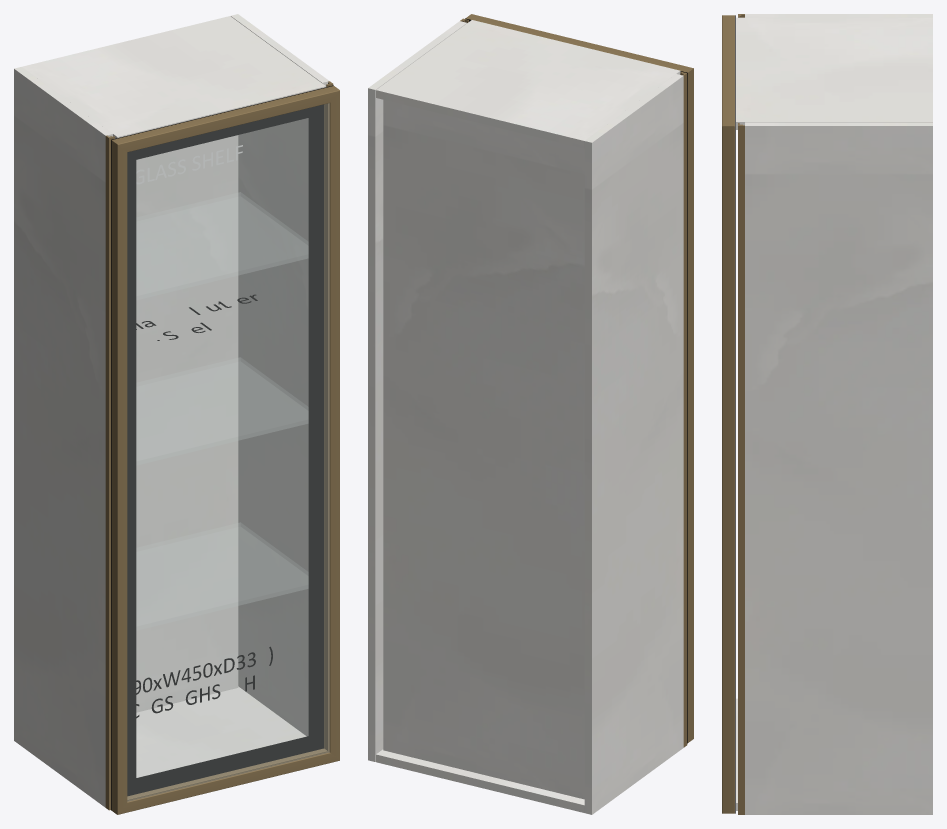
Rendered from MDW-SH-NHX-GL-3SG-RHS-XXX-450-1290-336-15.glb.
3 views of the same model, side by side, from view 1: azimuth 30°, elevation 25°; view 2: azimuth 150°, elevation 25°; view 3: azimuth 270°, elevation 25° (orthographic). The views are drawn at different scales.
Visible parts, largest first — view 1: Object_node_1, TP_node_0, TP_node_5, TP_node_1, Neon 22 Profile ALU PROF NEON 20 L21XH22.5MM 3MTR S2/405 SEC (×4), Object_node_3, TP, TP_node_2, TP_node_3, TP_node_4, TP_node, Object_node_5 (+2 smaller); view 2: TP_node_5, TP_node_0, TP, TP_node_1, Neon 22 Profile ALU PROF NEON 20 L21XH22.5MM 3MTR S2/405 SEC (×2), Object_node_5, TP_node, Object_node_3; view 3: TP_node_1, TP, Neon 22 Profile ALU PROF NEON 20 L21XH22.5MM 3MTR S2/405 SEC (×2), Object_node_11, Object_node_3, TP_node_0.
Boxes of the visible parts, x1,y1,x2,y2 form: Object_node_1: (127,103,329,801); TP_node_0: (14,67,112,807); TP_node_5: (136,135,238,712); TP_node_1: (231,14,329,736); Neon 22 Profile ALU PROF NEON 20 L21XH22.5MM 3MTR S2/405 SEC (×4): (111,86,339,814); Object_node_3: (111,85,333,810); TP: (22,16,325,138); TP_node_2: (137,523,307,629); TP_node_3: (137,358,307,464); TP_node_4: (137,192,307,299); TP_node: (136,686,306,777); Object_node_5: (105,135,114,810); TP_node_5: (383,100,584,799); TP_node_0: (584,74,683,814); TP: (376,20,680,148); TP_node_1: (368,21,466,761); Neon 22 Profile ALU PROF NEON 20 L21XH22.5MM 3MTR S2/405 SEC (×2): (465,14,693,742); Object_node_5: (680,71,687,747); TP_node: (376,749,584,812); Object_node_3: (465,18,687,743); TP_node_1: (745,122,932,814); TP: (736,17,932,129); Neon 22 Profile ALU PROF NEON 20 L21XH22.5MM 3MTR S2/405 SEC (×2): (722,15,734,813); Object_node_11: (738,123,744,814); Object_node_3: (735,15,735,813); TP_node_0: (745,14,932,17).
Size of what is drawn, in the model's own units: 0.45 by 1.29 by 0.358.
Materials: 6 (1 with a texture image).
